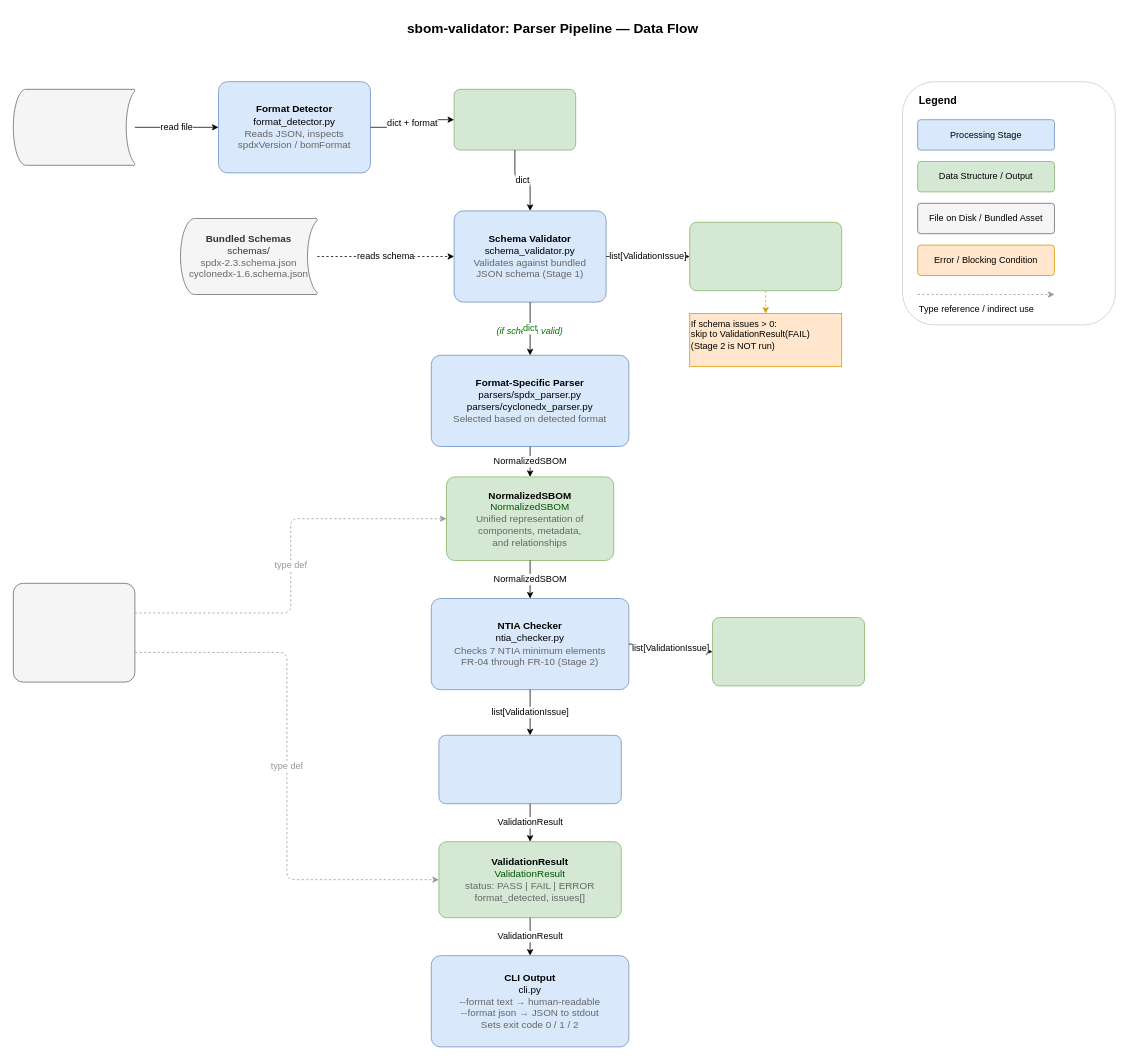
The diagram is 1129 pixels wide and 1060 high, and some of its shapes have lost their labels. Here are the shapes that lost their labels. From the top down, the box of each, then its label:
(13, 89, 135, 165): JSON File on Disk file.spdx.json file.cdx.json
(453, 89, 576, 150): Raw JSON Dict dict + detected format
(689, 222, 842, 291): Schema Issues List list[ValidationIssue] (empty if schema valid)
(13, 583, 135, 682): Models models.py NormalizedSBOM ValidationResult ValidationIssue
(712, 617, 864, 686): NTIA Issues List list[ValidationIssue] (empty if compliant)
(438, 735, 621, 804): Merge All Issues Combine schema issues + NTIA issues, determine status
